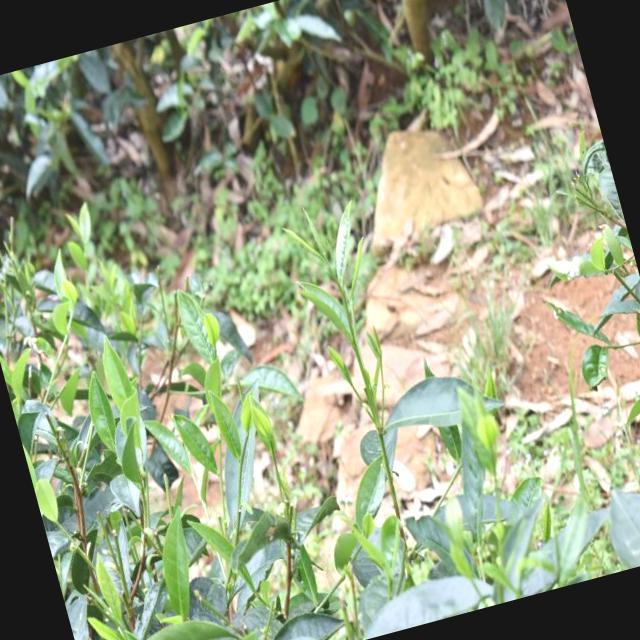Stem: (269, 446, 276, 459), (239, 457, 243, 466), (326, 263, 331, 270)
